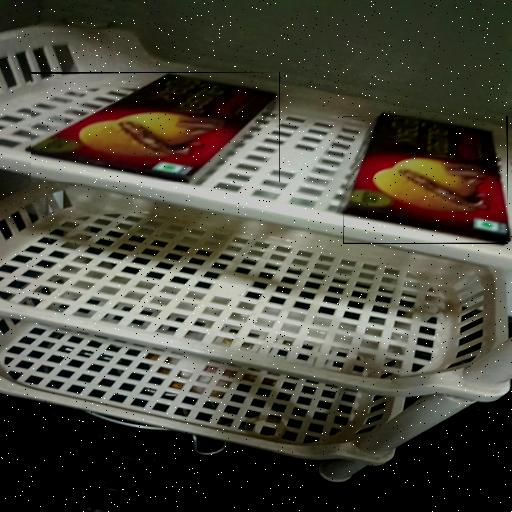Choco Fills: (31, 72, 280, 182), (343, 116, 508, 244)
